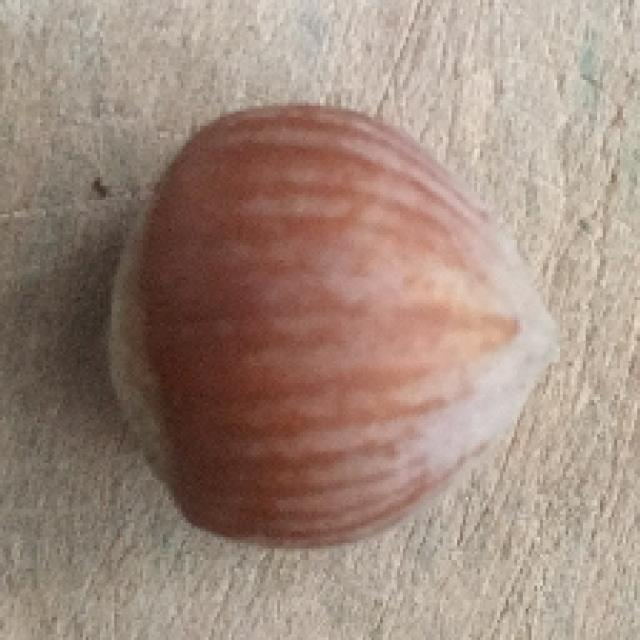qualityHazelnut: (106, 106, 560, 548)
